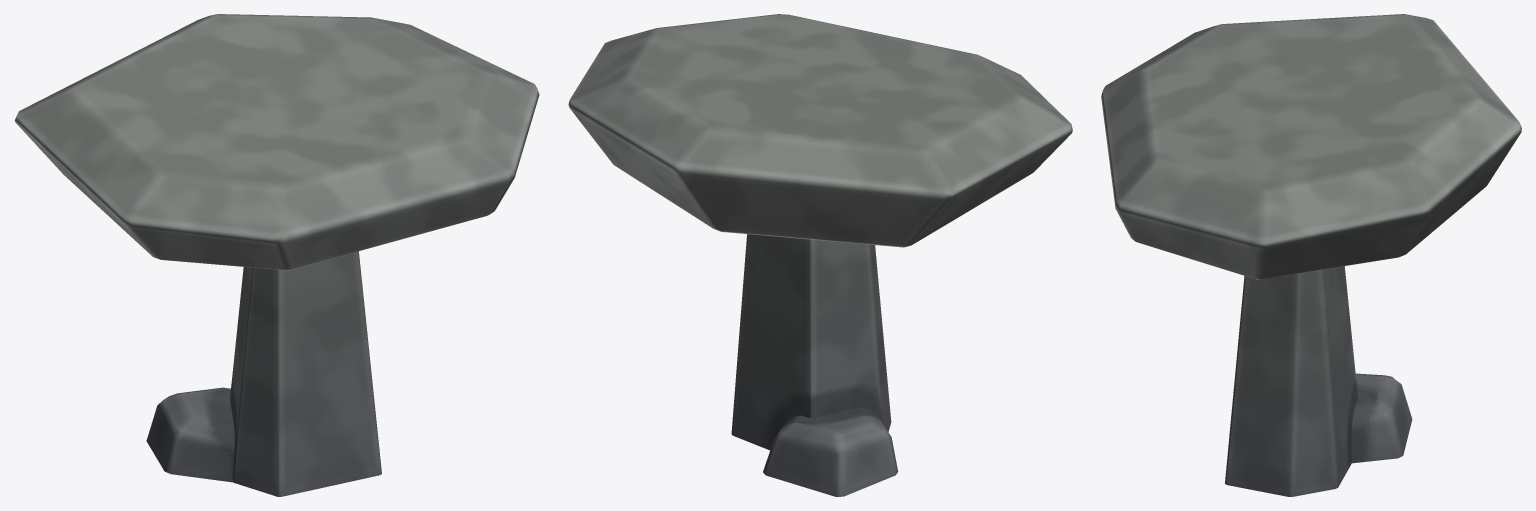
The model's file is table_rock_1.glb.
The picture shows the model from 3 angles, left to right: view 1: azimuth 30°, elevation 25°; view 2: azimuth 150°, elevation 25°; view 3: azimuth 270°, elevation 25°; orthographic projection. The views are drawn at different scales.
Visible parts, largest first — view 1: table_rock_1; view 2: table_rock_1; view 3: table_rock_1.
Boxes of the visible parts, x1,y1,x2,y2 form: table_rock_1: (14, 14, 539, 496); table_rock_1: (568, 14, 1072, 496); table_rock_1: (1101, 14, 1521, 496).
Size of the model in its own units: 3.6 by 2.9 by 3.
Materials: 1 (1 with a texture image).
